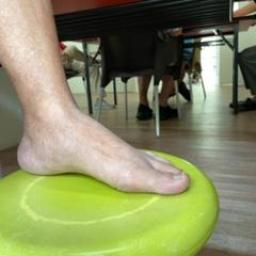Medial View -Left Foot-: (3, 66, 211, 218)
